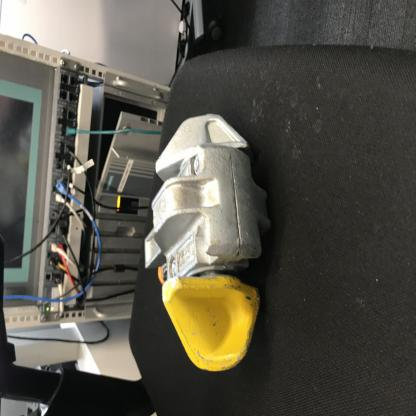Twistlock: (138, 110, 274, 378)
